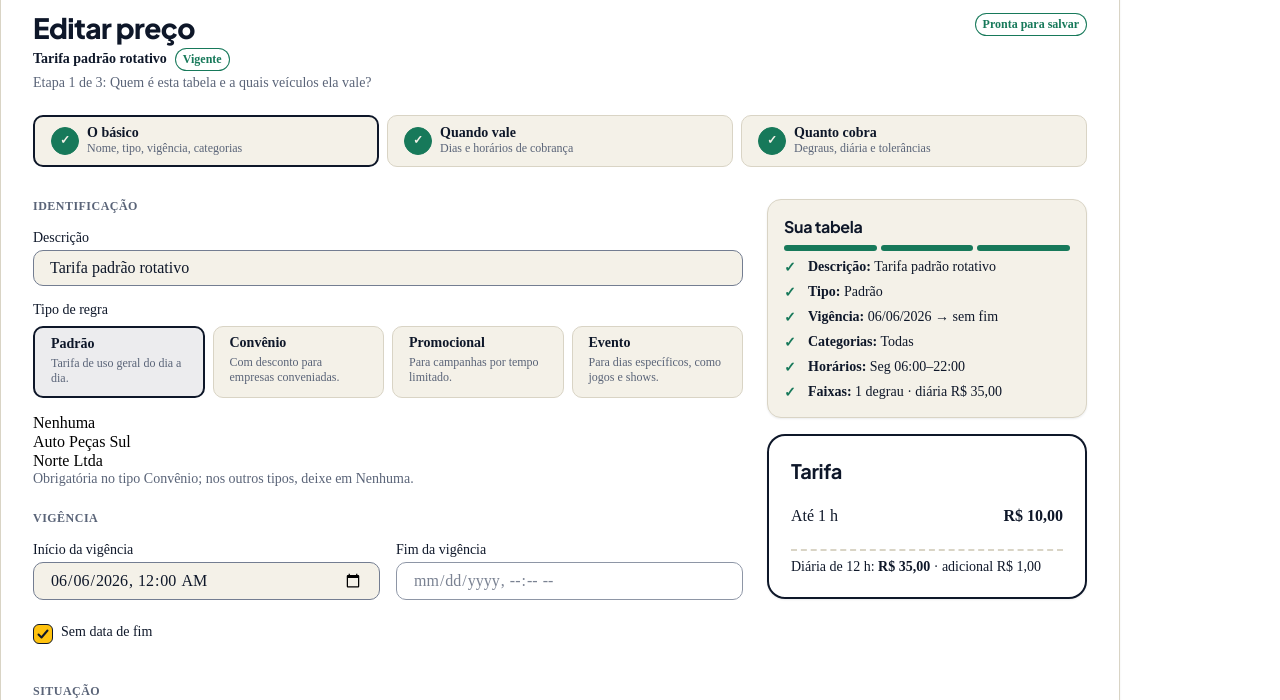
Test: PrecoWizard: edição › salvar sem mudanças fica desabilitado e o painel só marca 'Alterado' depois de editar
The width and height of the screenshot is (1280, 700).
Expected: the field labelled "Descrição" is shown, [33,250,743,286]
Click the button "✓ Quanto cobra Degraus, diária e tolerâncias" at (914, 141), box [741,115,1087,167]
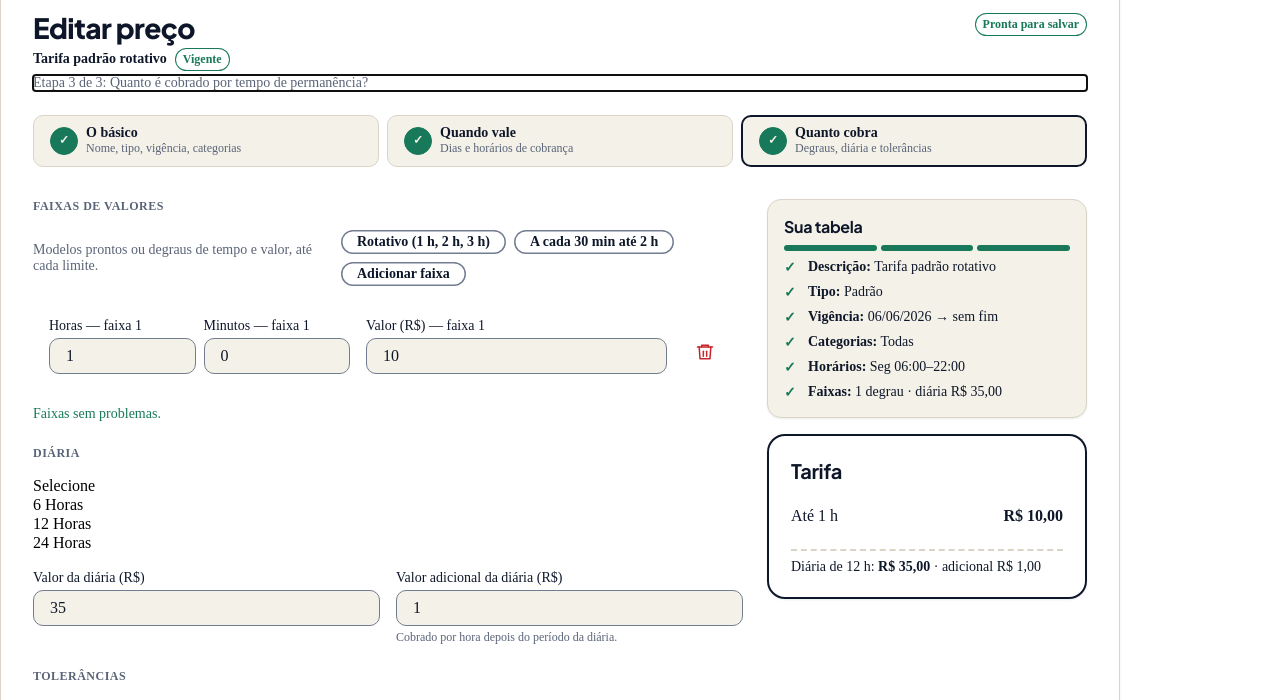
Expected: the text "Alterado" is not shown
Expected: the text "Etapa 3 de 3: Quanto é cobrado por tempo de permanência?" is shown, [33,75,368,90]
Click the button "✓ O básico Nome, tipo, vigência, categorias" at (206, 141), box [33,115,379,167]
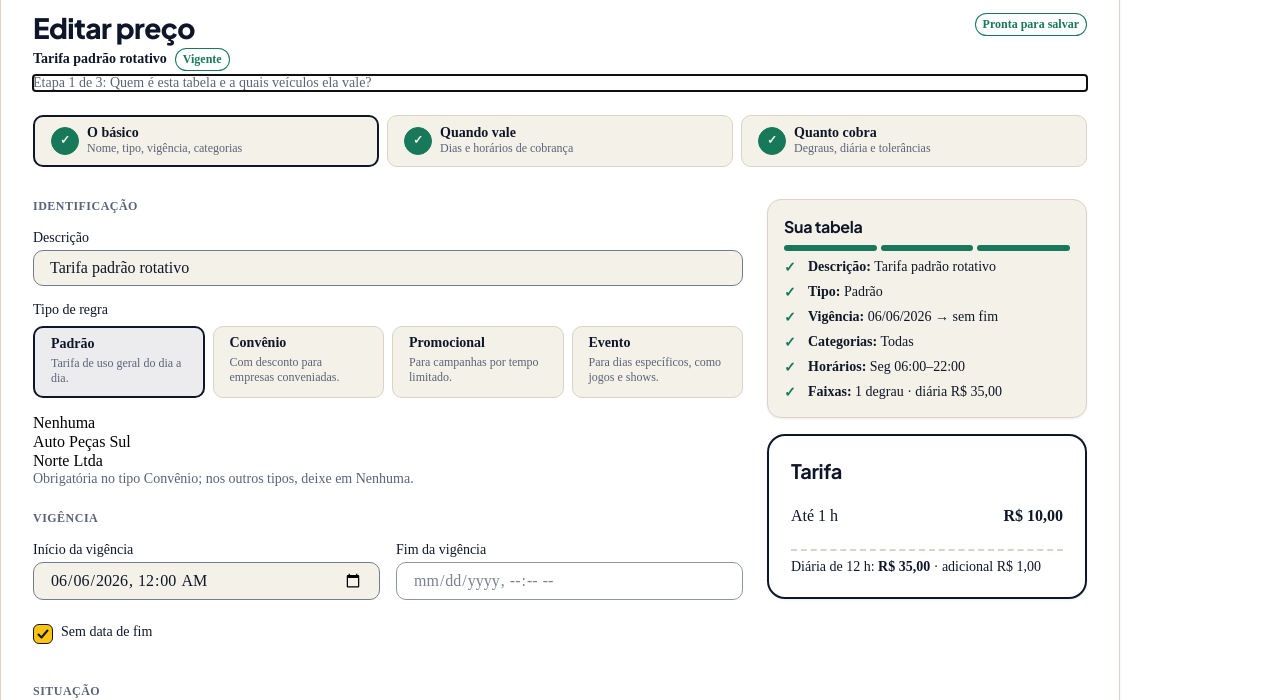
Expected: the text "Etapa 1 de 3" is shown, [33,75,372,90]
Replace the text in the field labelled "Descrição" with "Tarifa revisada" at (388, 268), box [33,250,743,286]
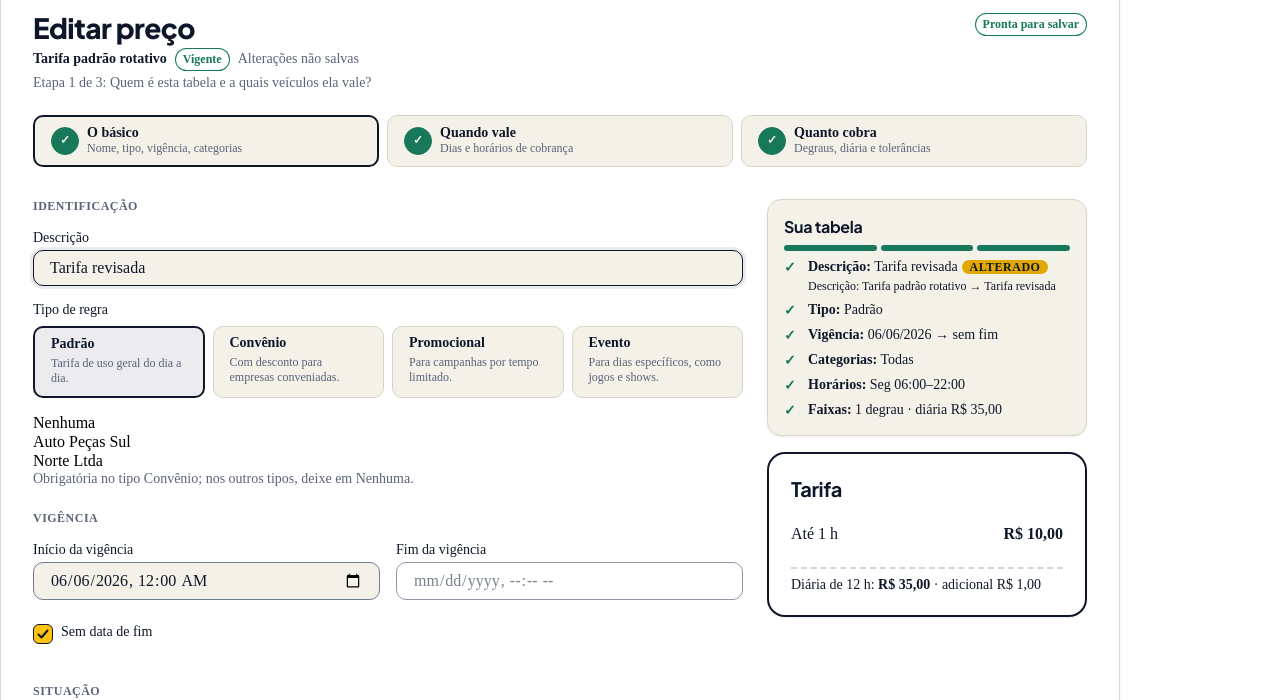
Expected: the text "Alterado" is shown, [962,260,1048,274]
Expected: the list item "Descrição: Tarifa padrão rotativo → Tarifa revisada" is shown, [808,279,1056,294]
Click the button "✓ Quanto cobra Degraus, diária e tolerâncias" at (914, 141), box [741,115,1087,167]
(page scrolled)
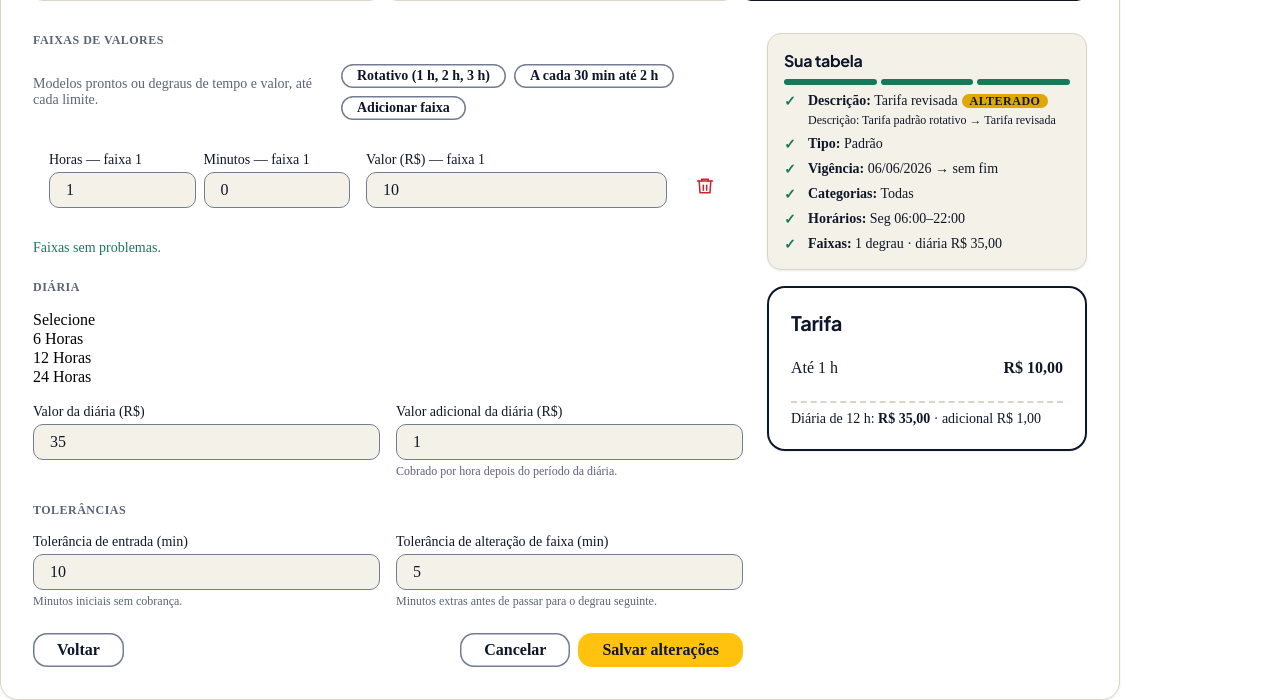
Expected: the button "Salvar alterações" is enabled, [578,632,743,666]
